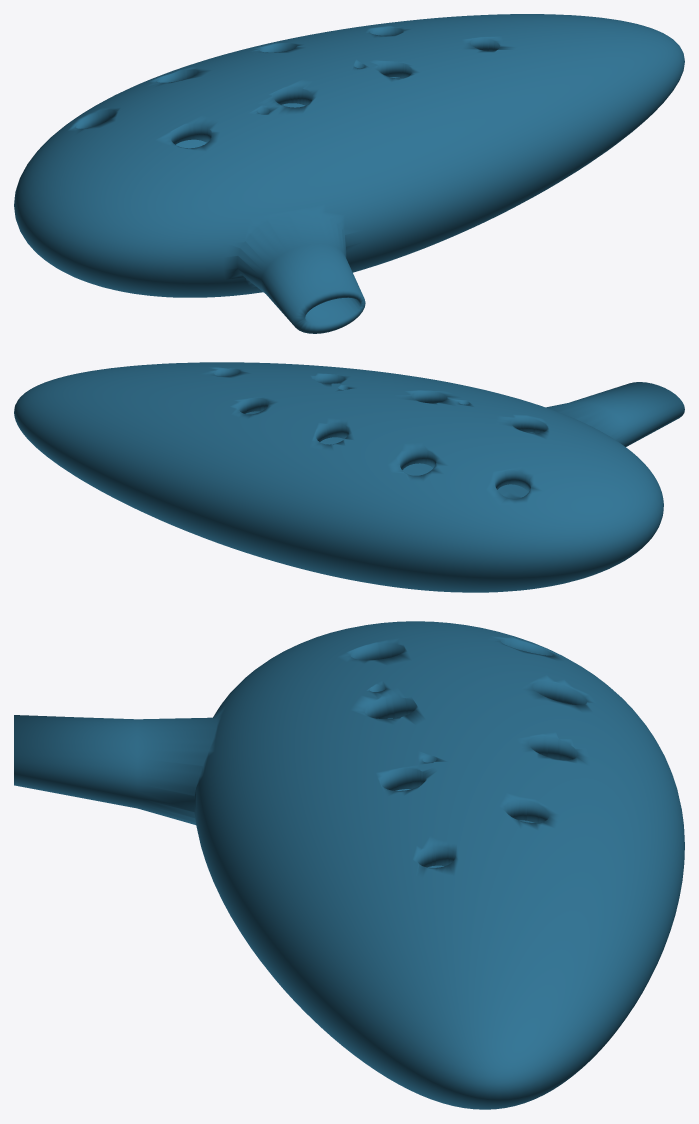
Rendered from A-NEW-20261026-OCARINA-001_LOD0_R5.fbx.
3 renders of one model, top to bottom at view 1: azimuth 30°, elevation 25°; view 2: azimuth 150°, elevation 25°; view 3: azimuth 270°, elevation 25°, orthographic. The views are drawn at different scales.
Parts seen in each view (by area): view 1: continuous ceramic body and mouthpiece; view 2: continuous ceramic body and mouthpiece; view 3: continuous ceramic body and mouthpiece.
Part boxes in pixels (x1,y1,x2,y2): continuous ceramic body and mouthpiece: (14, 14, 684, 333); continuous ceramic body and mouthpiece: (14, 362, 684, 592); continuous ceramic body and mouthpiece: (14, 621, 684, 1109).
Size of the model in its own units: 15.8 by 3.86 by 10.33.
